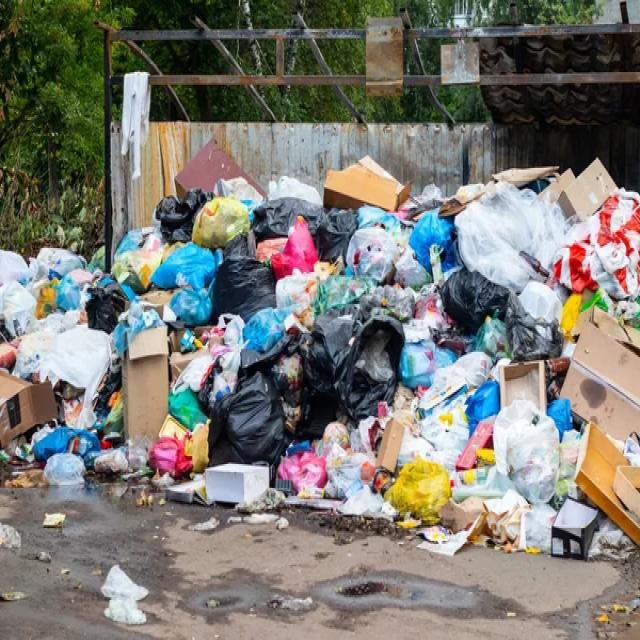garbage: (13, 118, 635, 601)
